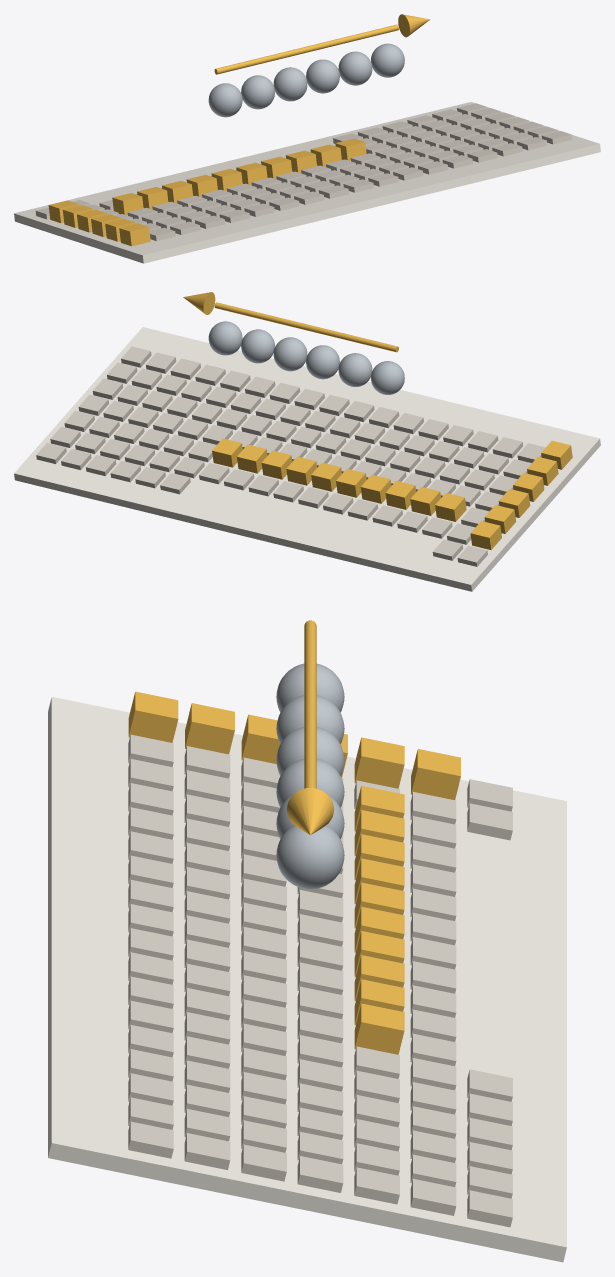
File: chem-periodic-metal.glb
3 views of the same model, one above another, from view 1: azimuth 30°, elevation 25°; view 2: azimuth 150°, elevation 25°; view 3: azimuth 270°, elevation 25° (orthographic). The views are drawn at different scales.
Parts seen in each view (by area): view 1: table-backing, conductivity-path-shaft, metal-lattice-node-3, metal-lattice-node-1, metal-lattice-node-5, metal-lattice-node-4, metal-lattice-node-6, metal-lattice-node-2, highlight-cell-1-7, highlight-cell-3-3, highlight-cell-11-3, highlight-cell-12-3 (+13 smaller); view 2: table-backing, conductivity-path-shaft, metal-lattice-node-6, metal-lattice-node-4, metal-lattice-node-1, metal-lattice-node-3, metal-lattice-node-5, metal-lattice-node-2, highlight-cell-3-3, highlight-cell-1-2, highlight-cell-4-3, highlight-cell-9-3 (+96 smaller); view 3: table-backing, metal-lattice-node-6, conductivity-path-shaft, highlight-cell-1-3, highlight-cell-12-3, highlight-cell-1-7, highlight-cell-1-6, highlight-cell-1-2, metal-lattice-node-2, metal-lattice-node-1, metal-lattice-node-3, metal-lattice-node-4 (+105 smaller).
Boxes of the visible parts, x1,y1,x2,y2 form: table-backing: (14, 102, 600, 263); conductivity-path-shaft: (214, 24, 398, 74); metal-lattice-node-3: (273, 67, 307, 101); metal-lattice-node-1: (208, 83, 242, 117); metal-lattice-node-5: (338, 51, 372, 85); metal-lattice-node-4: (306, 59, 339, 93); metal-lattice-node-6: (371, 43, 404, 77); metal-lattice-node-2: (241, 75, 274, 109); highlight-cell-1-7: (119, 223, 150, 246); highlight-cell-3-3: (112, 193, 143, 215); highlight-cell-11-3: (310, 144, 341, 166); highlight-cell-12-3: (335, 138, 366, 160); table-backing: (14, 327, 600, 591); conductivity-path-shaft: (214, 302, 398, 352); metal-lattice-node-6: (208, 321, 242, 355); metal-lattice-node-4: (273, 337, 307, 371); metal-lattice-node-1: (371, 361, 404, 394); metal-lattice-node-3: (306, 345, 339, 379); metal-lattice-node-5: (241, 329, 274, 363); metal-lattice-node-2: (338, 353, 372, 386); highlight-cell-3-3: (435, 493, 466, 521); highlight-cell-1-2: (470, 521, 501, 549); highlight-cell-4-3: (410, 487, 440, 515); highlight-cell-9-3: (286, 456, 317, 485); table-backing: (48, 697, 566, 1262); metal-lattice-node-6: (276, 825, 344, 889); conductivity-path-shaft: (304, 620, 316, 788); highlight-cell-1-3: (354, 737, 404, 788); highlight-cell-12-3: (354, 1003, 404, 1054); highlight-cell-1-7: (128, 691, 178, 742); highlight-cell-1-6: (185, 703, 234, 754); highlight-cell-1-2: (411, 749, 460, 800); metal-lattice-node-2: (276, 695, 344, 743); metal-lattice-node-1: (276, 663, 344, 712); metal-lattice-node-3: (276, 727, 344, 775); metal-lattice-node-4: (276, 758, 344, 807).
Size of what is drawn, in the model's own units: 3.1 by 1.12 by 1.52.
